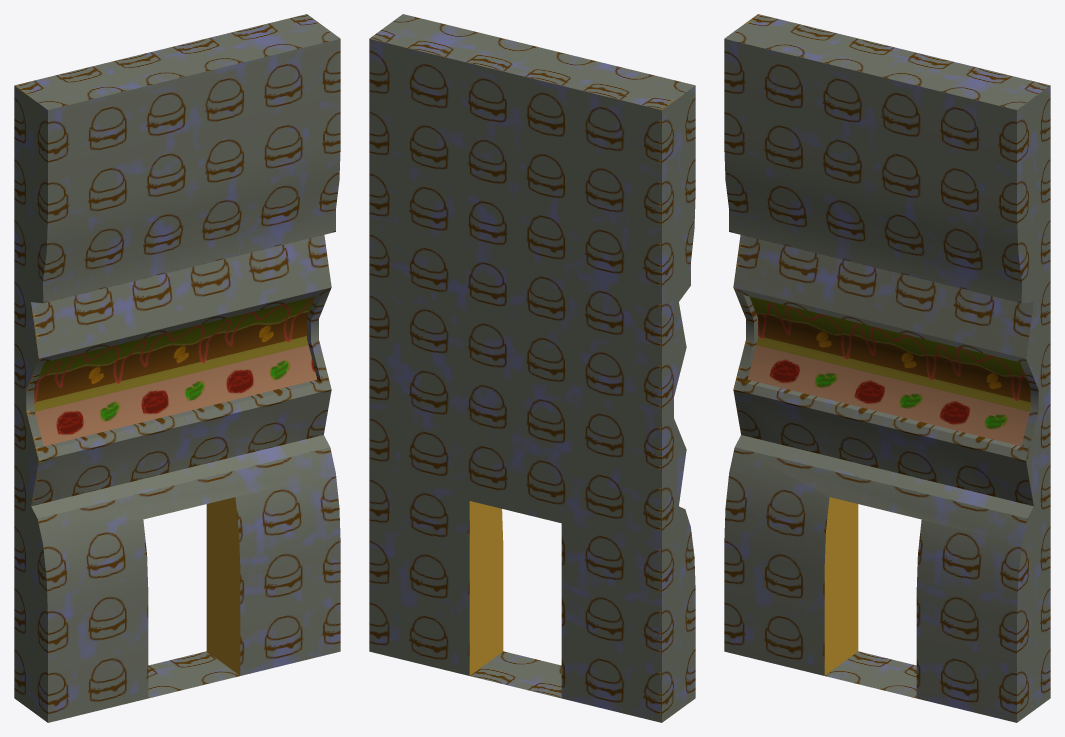
Rendered from doorframe.gltf.
The picture shows the model from 3 angles, left to right: view 1: azimuth 30°, elevation 25°; view 2: azimuth 150°, elevation 25°; view 3: azimuth 330°, elevation 25°; orthographic projection.
Parts seen in each view (by area): view 1: doorframe; view 2: doorframe; view 3: doorframe.
Boxes of the visible parts, x1,y1,x2,y2 form: doorframe: (14,14,340,722); doorframe: (369,14,695,722); doorframe: (724,14,1050,722).
Size of what is drawn, in the model's own units: 3.5 by 7 by 0.7.
Materials: 2 (2 with a texture image).
